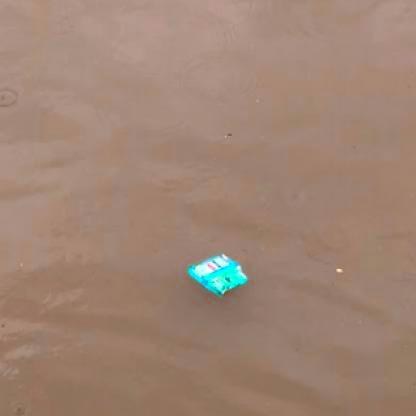Trash: (183, 248, 253, 301)
